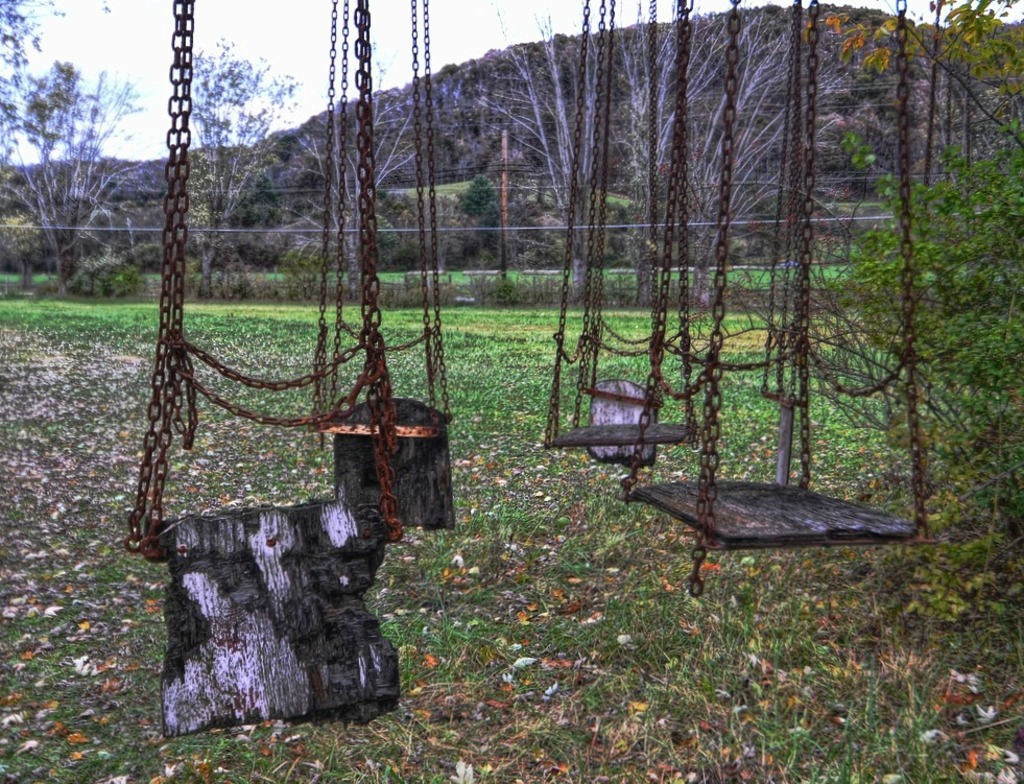Tree: (0, 0, 1024, 635)
